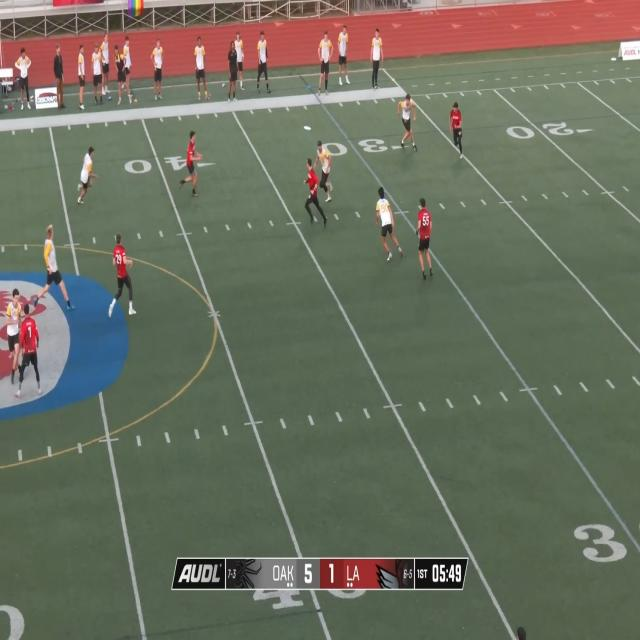Disc: (304, 126, 311, 130)
Player: (38, 224, 78, 310), (16, 306, 42, 398), (376, 190, 408, 262), (111, 236, 138, 318), (415, 199, 434, 284), (304, 160, 327, 227), (182, 130, 204, 198), (7, 289, 22, 384), (396, 95, 418, 155), (75, 148, 97, 206), (314, 142, 332, 202), (449, 104, 464, 154)
